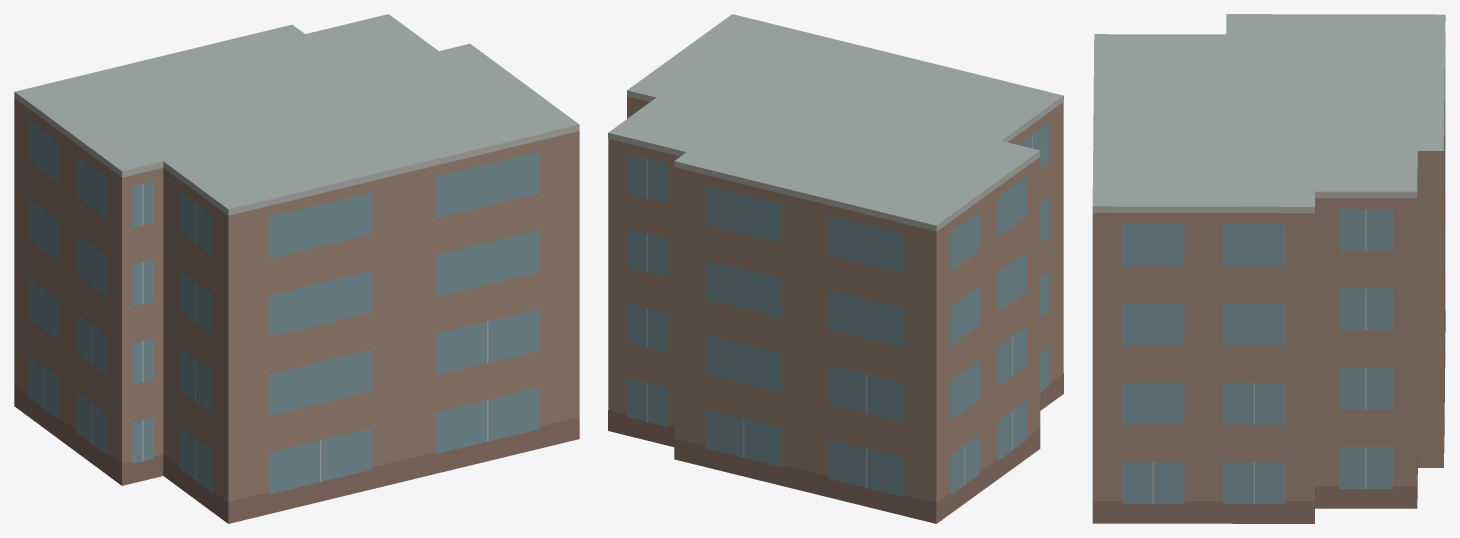
Rendered from survey-upis-32980775.glb.
The picture shows the model from 3 angles, left to right: view 1: azimuth 30°, elevation 25°; view 2: azimuth 150°, elevation 25°; view 3: azimuth 270°, elevation 25°; orthographic projection. The views are drawn at different scales.
Visible parts, largest first — view 1: survey-upis-32980775.tmp; view 2: survey-upis-32980775.tmp; view 3: survey-upis-32980775.tmp.
Part boxes in pixels (left/top/right/bottom): survey-upis-32980775.tmp: left=14, top=14, right=579, bottom=523; survey-upis-32980775.tmp: left=608, top=14, right=1063, bottom=523; survey-upis-32980775.tmp: left=1092, top=14, right=1445, bottom=523.
Size of the model in its own units: 15.86 by 12.15 by 12.26.
